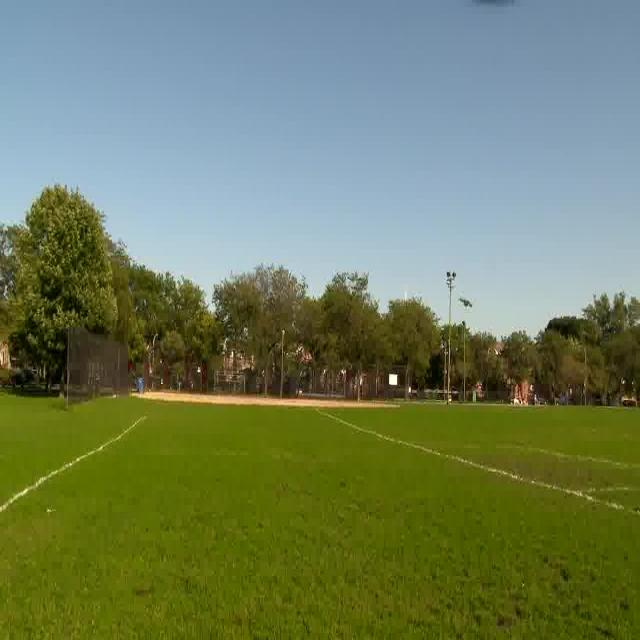drone: (456, 291, 472, 312)
